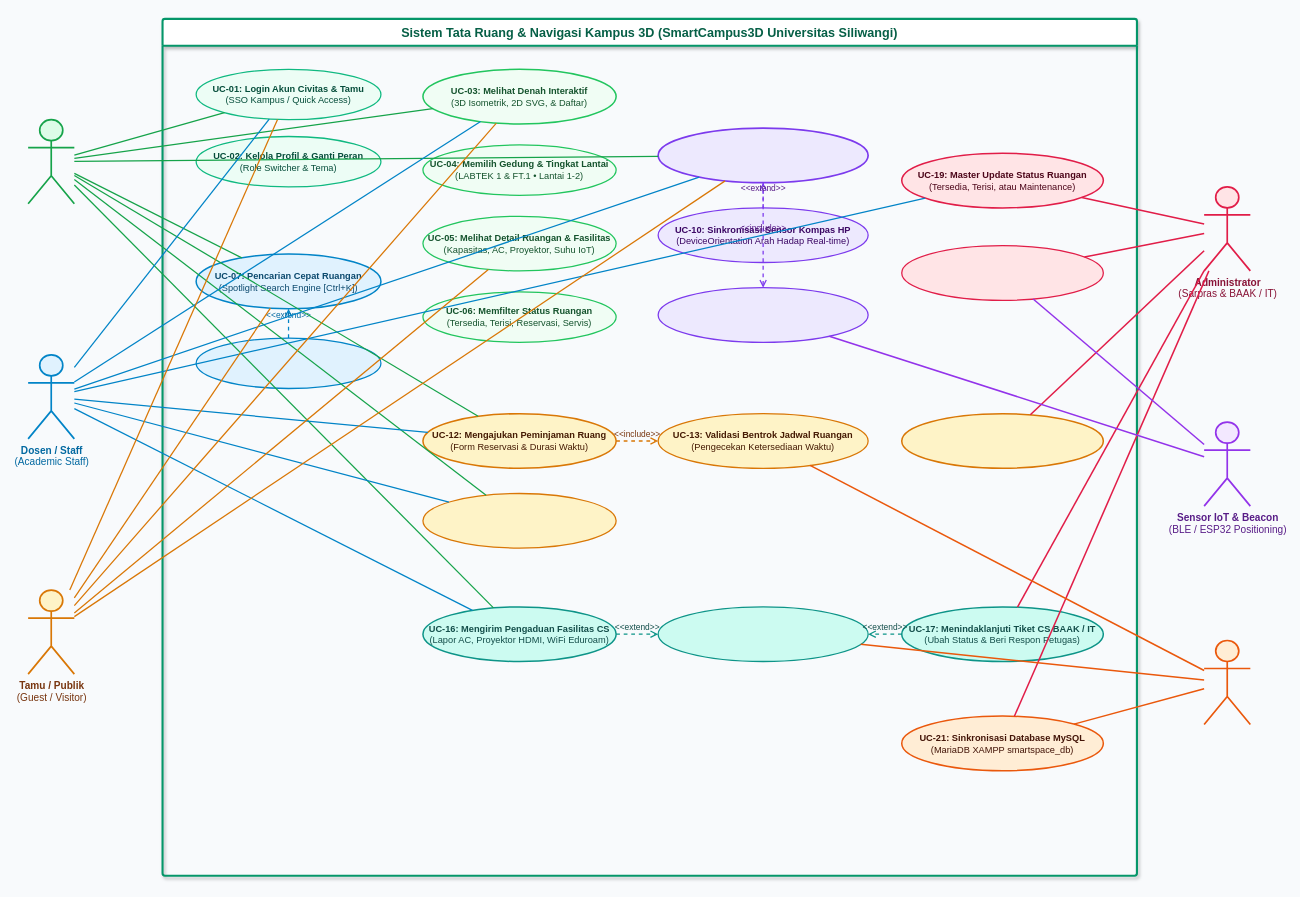
Some shapes in this 1300 by 897 pixel diagram are drawn without their labels. Here are the shapes that lost their labels. From the top down, the centre of each, then its label:
the point at 51,161: Mahasiswa (Student)
the point at 763,155: UC-09: Menampilkan Rute Jalan ke Ruangan (Visual Pathfinding & Turn-by-turn)
the point at 1002,273: UC-20: Monitoring Telemetri IoT Ruang (Sensor Suhu Lingkungan & Okupansi)
the point at 762,315: UC-11: Deteksi Posisi Indoor via IoT Beacon (Trilaterasi ESP32 BLE Anchor)
the point at 288,363: UC-08: Filter Kategori Ruangan (Ruang Kuliah, Lab, Dosen/Dekanat)
the point at 1002,441: UC-15: Verifikasi & Approval Peminjaman (Setujui / Batalkan Permohonan Ruang)
the point at 519,520: UC-14: Melihat Jadwal Kuliah & Agenda Ruang (Sinkronisasi Mata Kuliah & Sidang)
the point at 762,634: UC-18: Siaran Notifikasi Real-time (SSE) (Status Ruang, Tiket Baru, & Booking)
the point at 1227,682: Backend & DB Server (MySQL smartspace_db)
